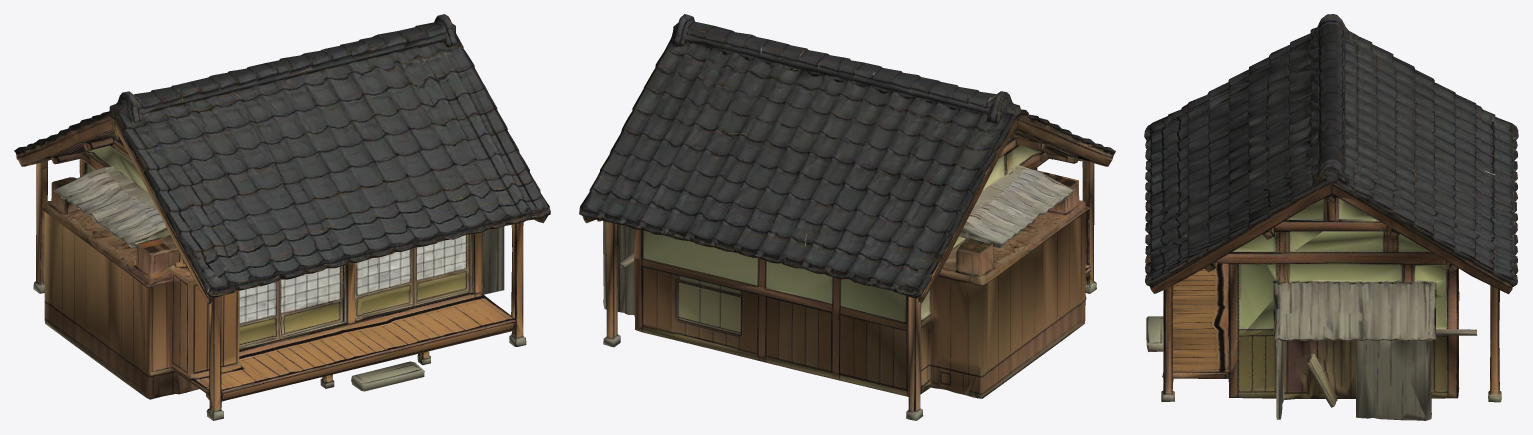
Rendered from kuku-house-3.glb.
3 views of the same model, side by side, from view 1: azimuth 30°, elevation 25°; view 2: azimuth 150°, elevation 25°; view 3: azimuth 270°, elevation 25° (orthographic). The views are drawn at different scales.
Parts seen in each view (by area): view 1: Mesh_0; view 2: Mesh_0; view 3: Mesh_0.
Part boxes in pixels (box(x1,y1,x2,y2)): Mesh_0: box(14, 14, 550, 420); Mesh_0: box(579, 14, 1115, 420); Mesh_0: box(1144, 14, 1518, 420).
Size of the model in its own units: 1.91 by 1.2 by 1.65.
Materials: 1 (1 with a texture image).
